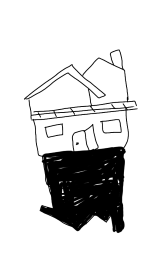chimney: (107, 41, 127, 73)
door: (70, 123, 98, 154)
open_window: (97, 115, 126, 135), (42, 120, 67, 141)
roof: (21, 62, 106, 100), (26, 100, 141, 123)
shadow: (26, 148, 143, 237)
single_line_roof: (83, 42, 134, 79)
wall: (29, 105, 133, 160)
